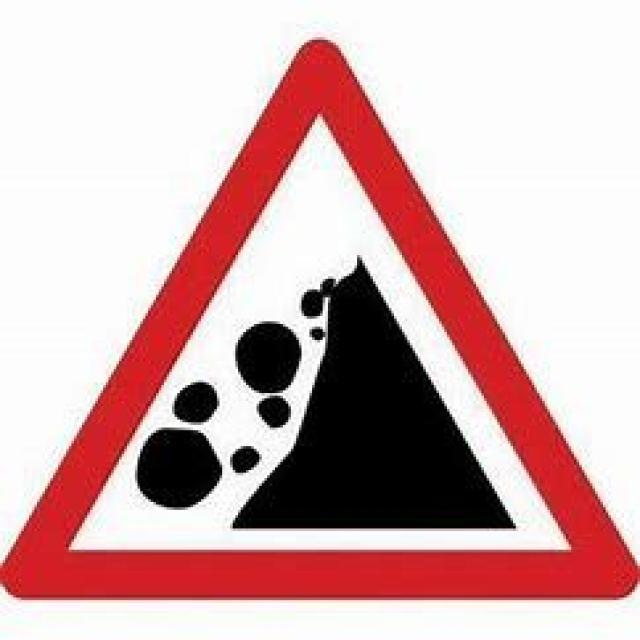falling rocks: (43, 40, 605, 600)
